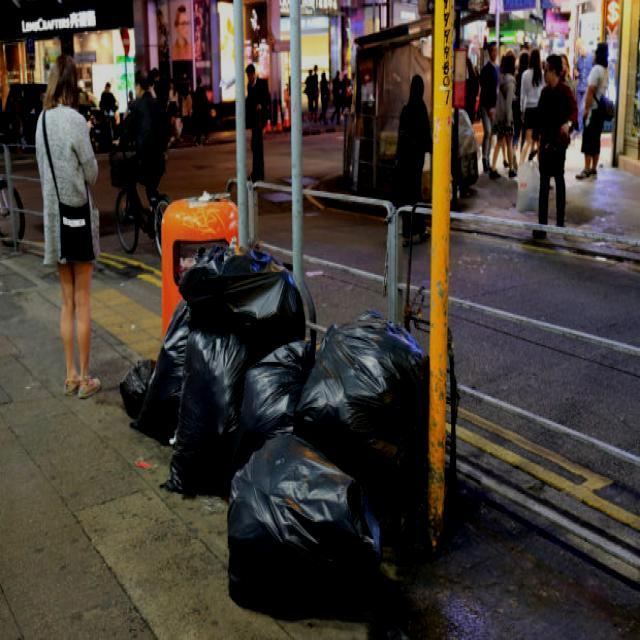high trash: (120, 250, 428, 614)
